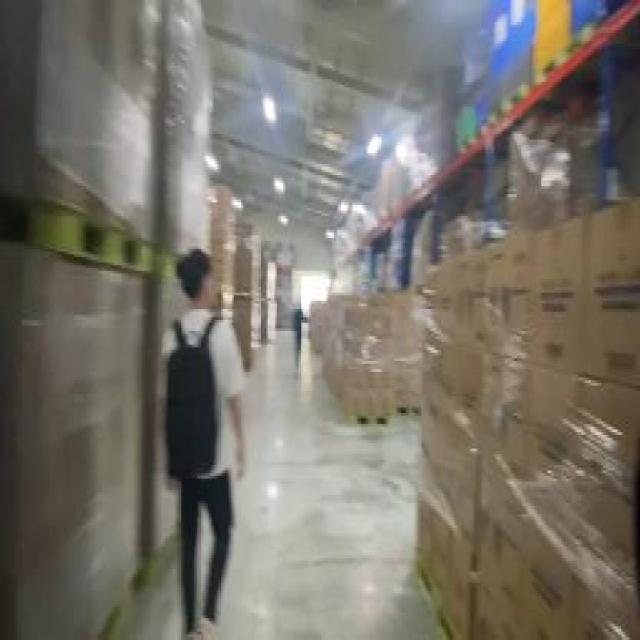box: (0, 0, 231, 618), (409, 211, 637, 637), (306, 293, 426, 427), (457, 2, 531, 136), (378, 85, 452, 178), (203, 188, 234, 396), (230, 219, 262, 364), (257, 252, 278, 336)
person: (162, 252, 246, 637), (291, 295, 303, 372)
